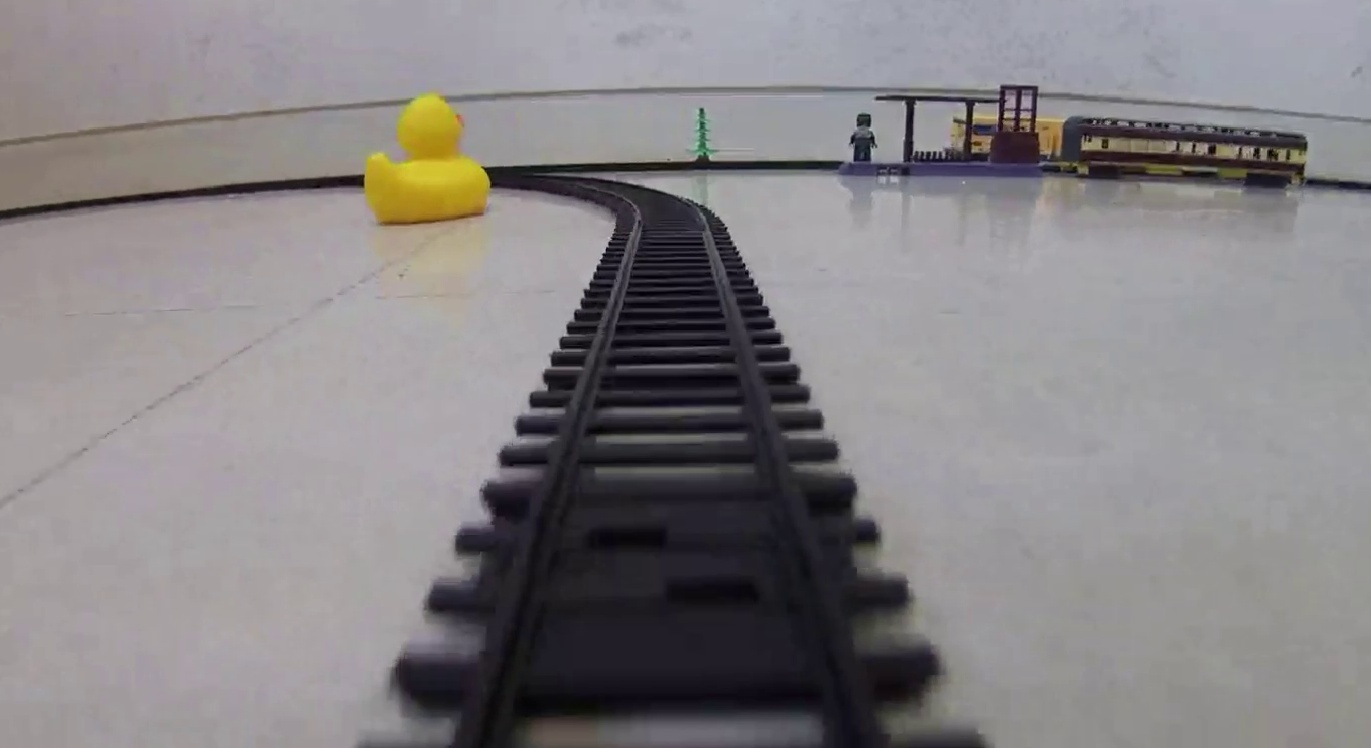people: (850, 113, 879, 164)
tree: (687, 106, 720, 163)
